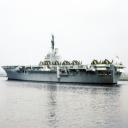Portanaves: (1, 33, 127, 87)
